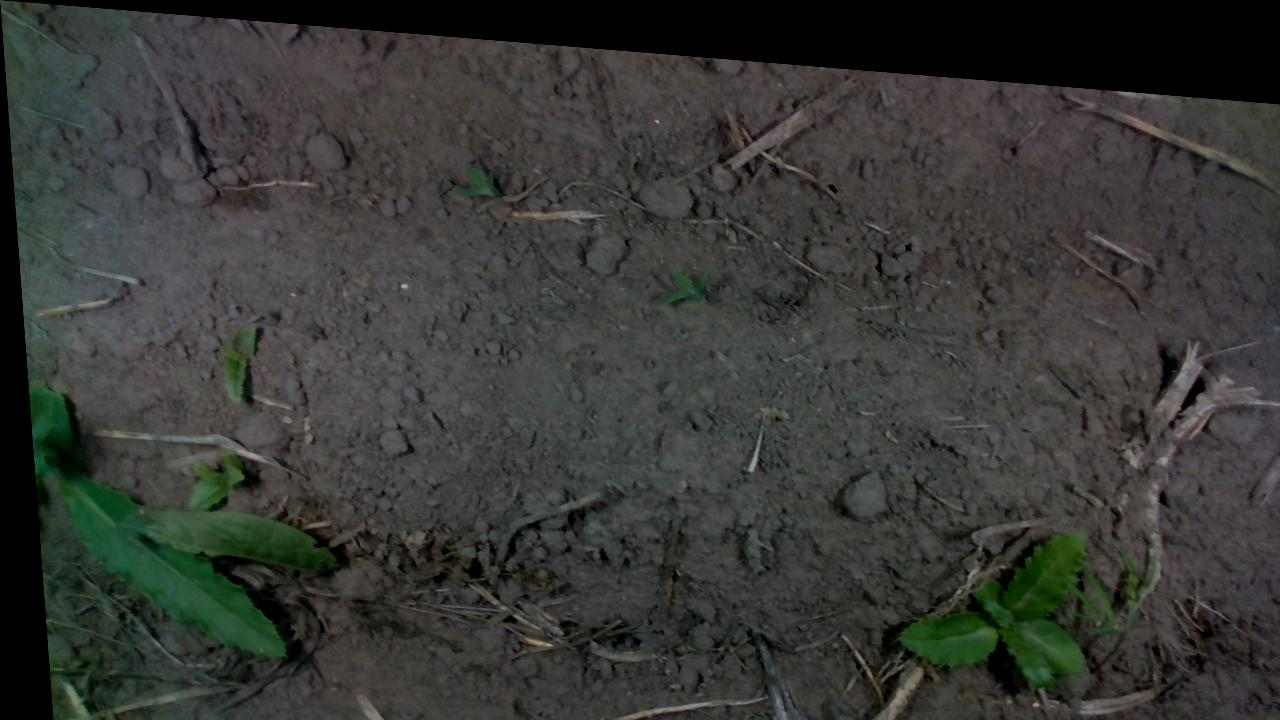weed: (210, 312, 260, 403), (652, 251, 709, 297)
